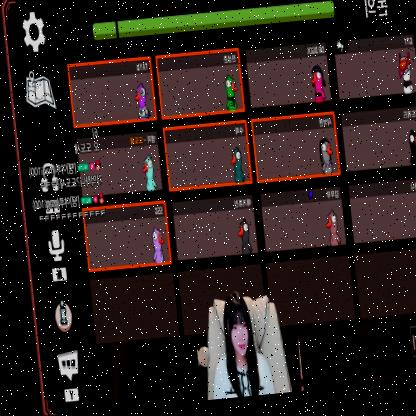streamer: (195, 290, 266, 403)
